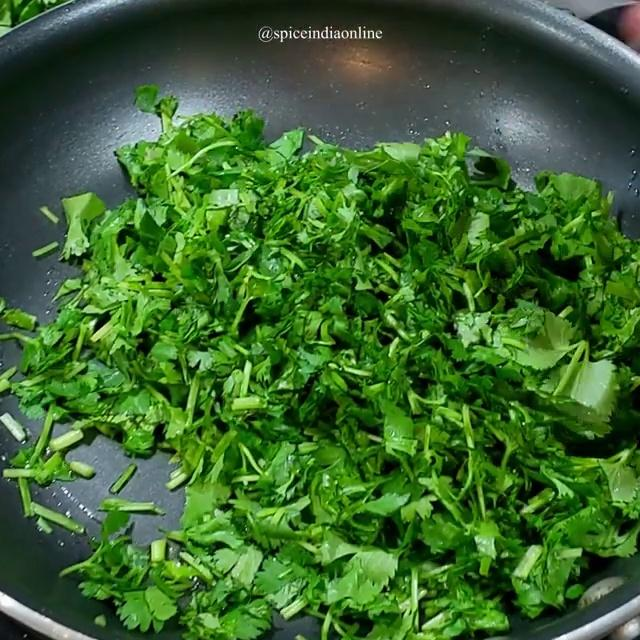cilantro: (80, 116, 640, 571)
